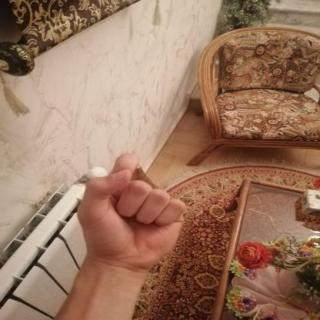FAA: (64, 146, 201, 280)
